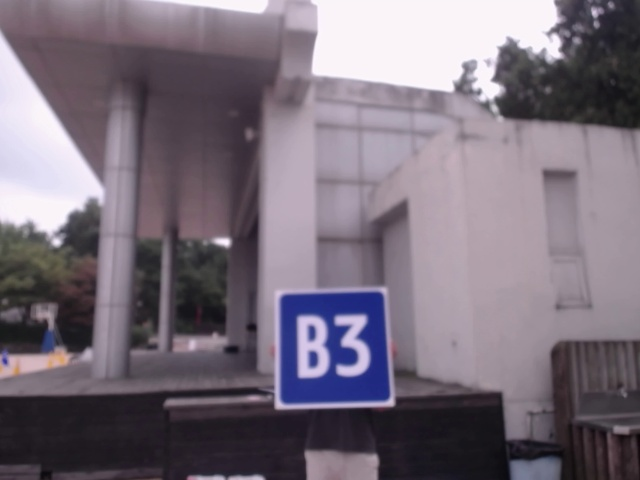delivery_b3: (276, 291, 392, 405)
